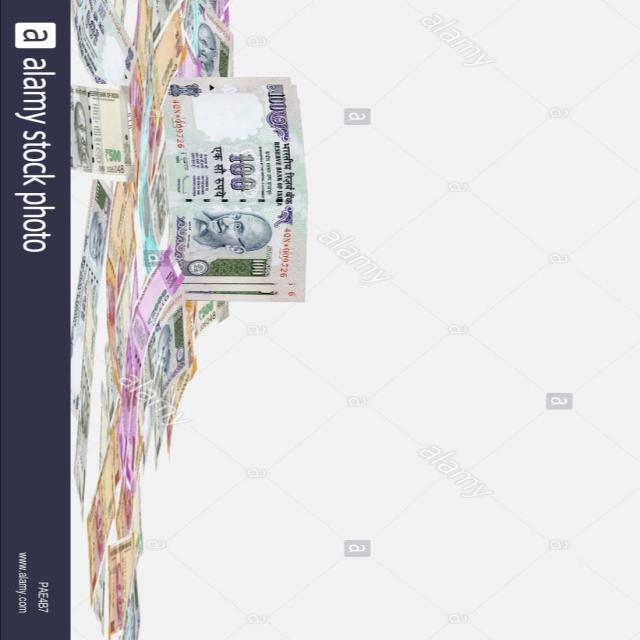100IndianRupees: (161, 77, 291, 283)
